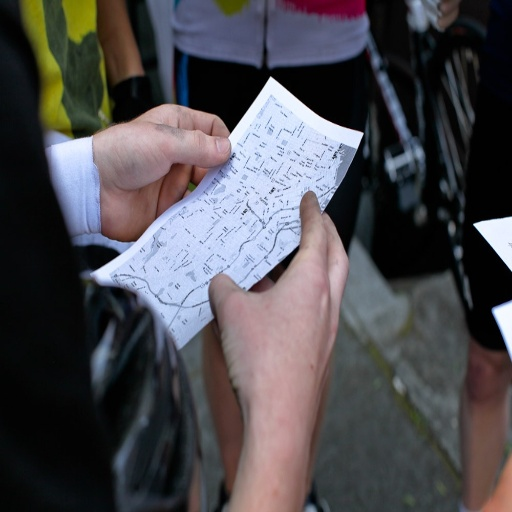hand: (209, 186, 351, 457), (89, 91, 239, 214), (422, 0, 459, 33)
